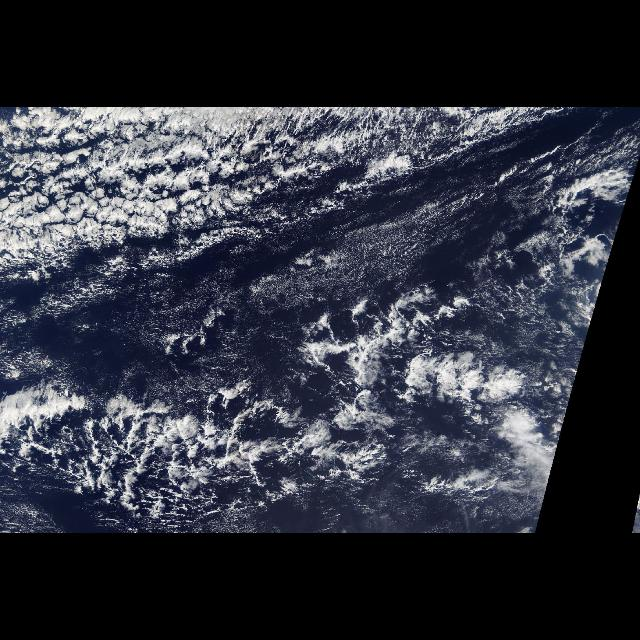Fish: (1, 296, 482, 528)
Flower: (3, 187, 149, 236)
Sugar: (32, 202, 618, 398)
